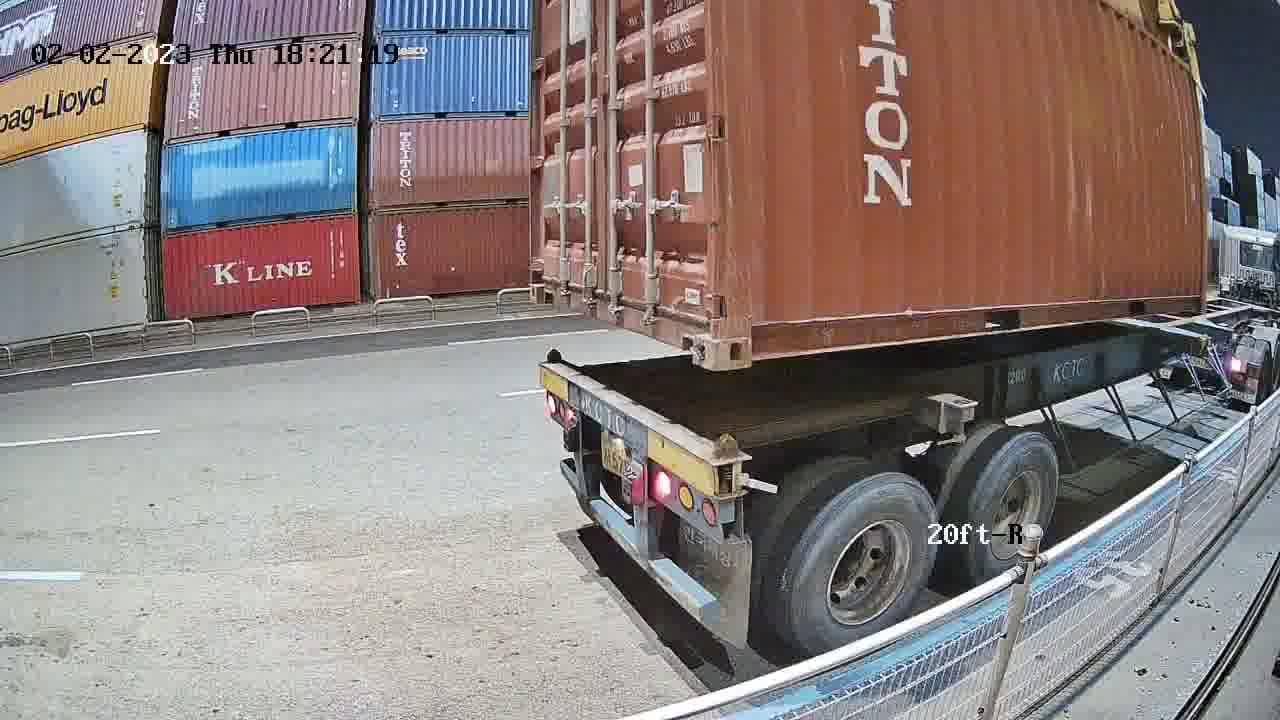Chassis: (539, 360, 748, 500)
Cone: (709, 433, 739, 498), (543, 346, 563, 367)
Hole_L: (713, 293, 779, 372), (529, 256, 561, 311)
Hole_R: (671, 292, 713, 368)
Tire: (792, 473, 940, 657), (968, 432, 1061, 584)
